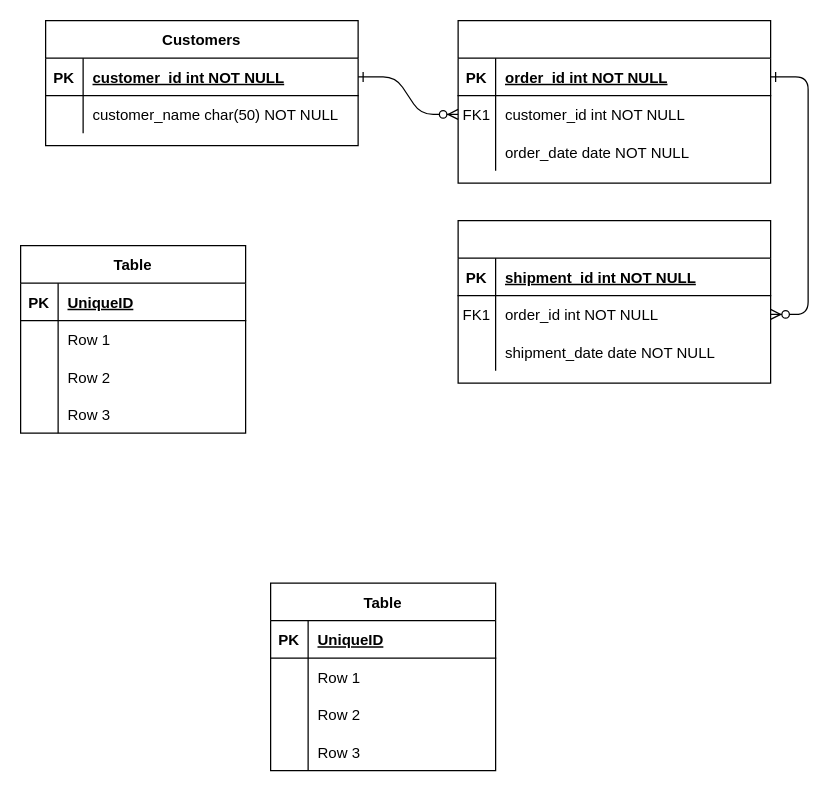
The diagram is 829 pixels wide and 791 high, and some of its shapes have lost their labels. The shapes that lost their labels are listed below. From the top down, each one's box as (x1, y1, x2, y2) in pixels, then its label:
(457, 19, 771, 183): Orders
(457, 219, 771, 383): Shipments
